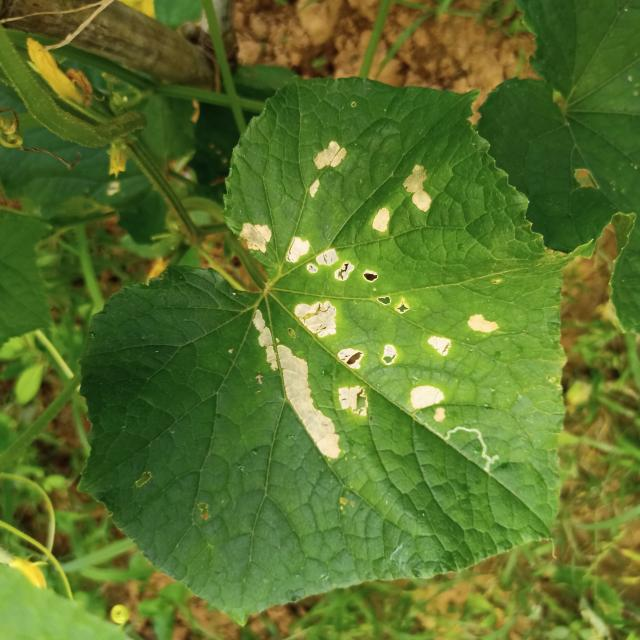disease_cucumber: (242, 296, 376, 463), (367, 290, 516, 423), (237, 219, 418, 322), (303, 134, 436, 236)
